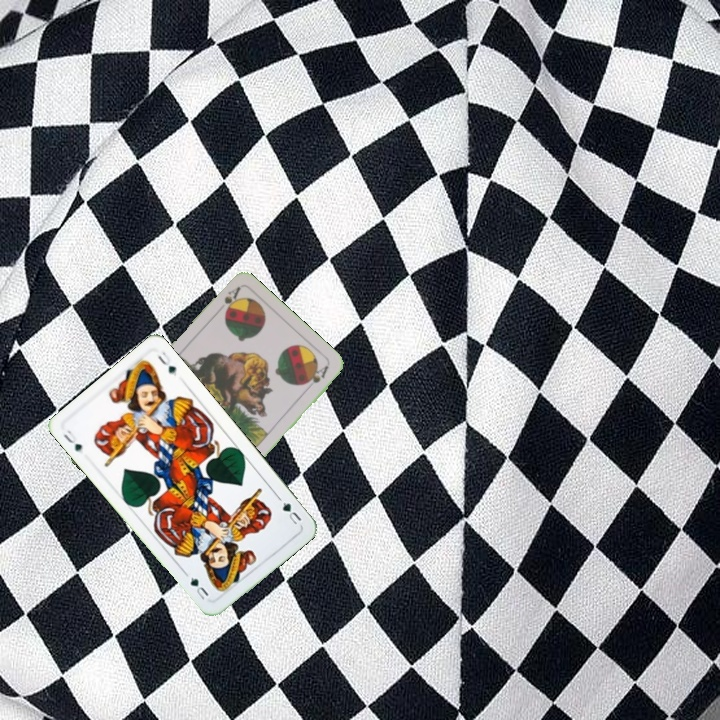GU: (274, 493, 304, 527), (60, 426, 85, 454)
SA: (220, 283, 243, 317)
